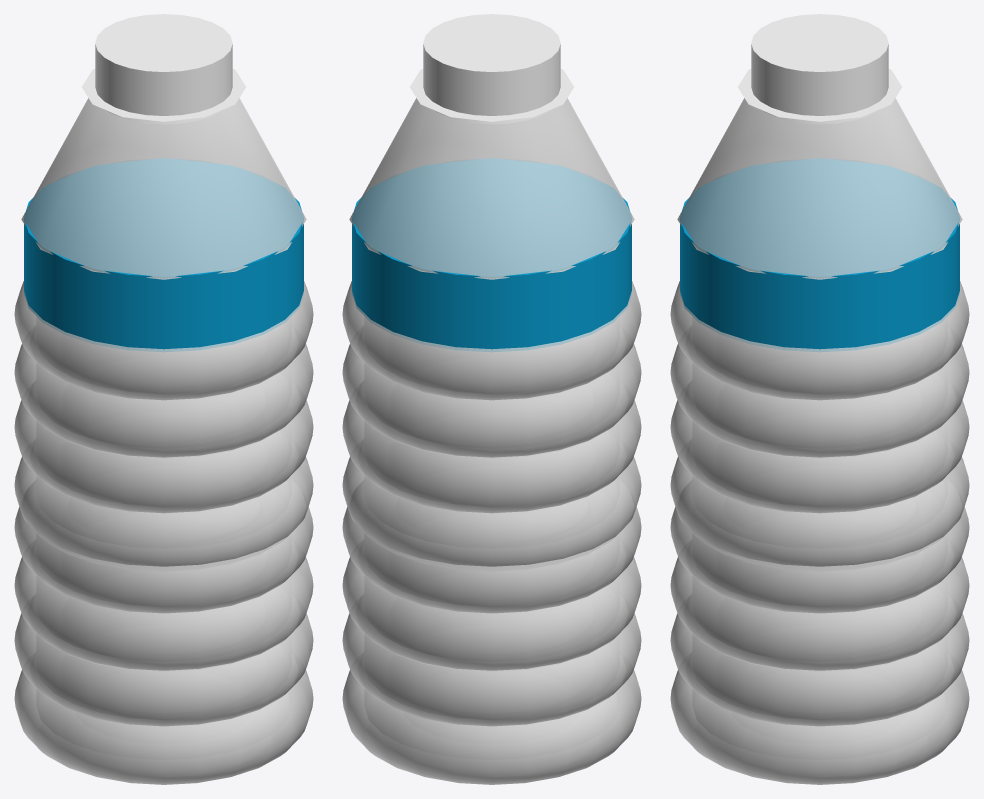
Rendered from water-bottle.fbx.
The picture shows the model from 3 angles, left to right: view 1: azimuth 30°, elevation 25°; view 2: azimuth 150°, elevation 25°; view 3: azimuth 270°, elevation 25°; orthographic projection.
Visible parts, largest first — view 1: Bottle, Water, Label, Cap; view 2: Bottle, Water, Label, Cap; view 3: Bottle, Water, Label, Cap.
Boxes of the visible parts, x1,y1,x2,y2 form: Bottle: [14, 98, 313, 784]; Water: [36, 317, 291, 759]; Label: [24, 158, 303, 351]; Cap: [82, 14, 245, 123]; Bottle: [342, 98, 641, 784]; Water: [364, 317, 619, 759]; Label: [352, 158, 631, 351]; Cap: [410, 14, 573, 123]; Bottle: [670, 98, 969, 784]; Water: [692, 317, 947, 759]; Label: [680, 158, 959, 351]; Cap: [738, 14, 901, 123].
Bounding box in the file's own units: 3.81 × 9.7 × 3.81.
